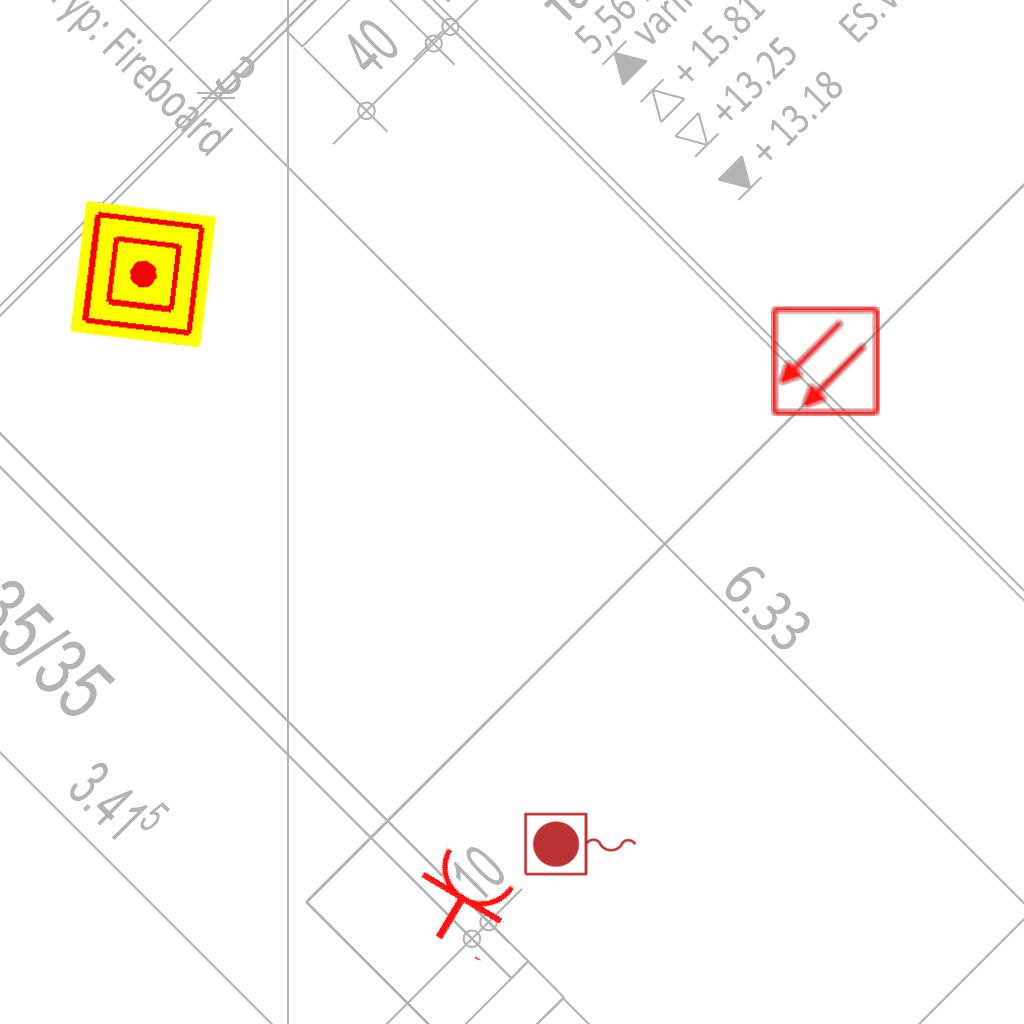NAM-Nichtautomatischer_Melder: (69, 200, 217, 348)
RMO_Rauchmelder_optischer: (769, 305, 882, 418)
Schukosteckdose_einfach: (396, 839, 527, 967)
Zugtaster: (520, 809, 642, 881)
